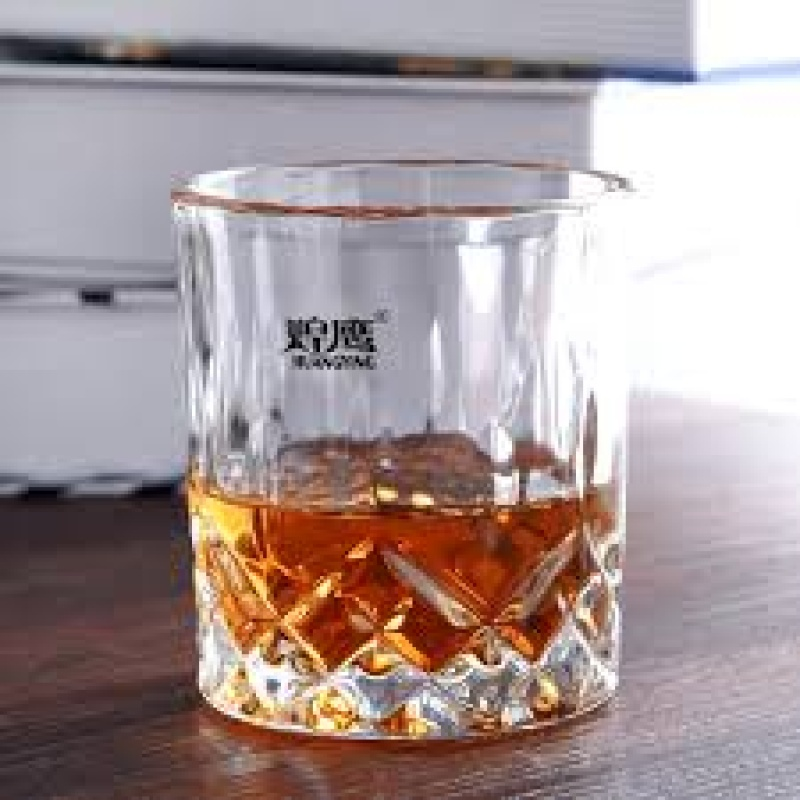whiskey: (175, 157, 636, 730)
